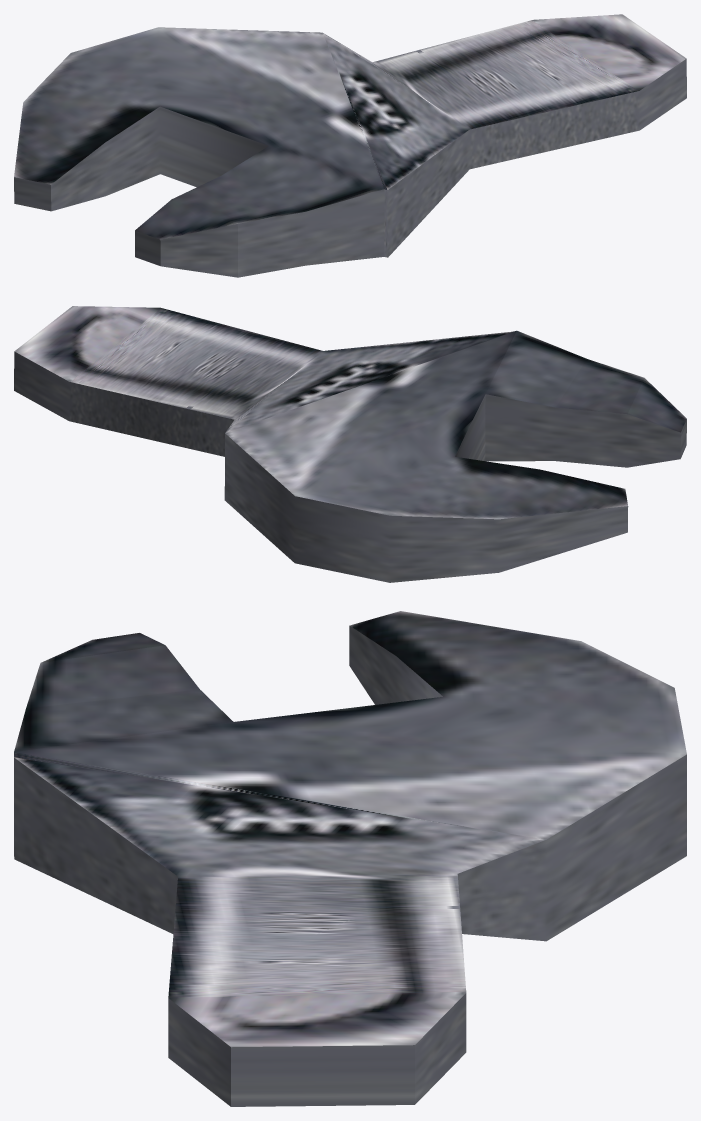
File: chave.FBX
The picture shows the model from 3 angles, top to bottom: view 1: azimuth 30°, elevation 25°; view 2: azimuth 150°, elevation 25°; view 3: azimuth 270°, elevation 25°; orthographic projection. The views are drawn at different scales.
Parts seen in each view (by area): view 1: chave; view 2: chave; view 3: chave.
Boxes of the visible parts, x1=… form: chave: x1=14, y1=14, x2=686, y2=277; chave: x1=14, y1=306, x2=686, y2=582; chave: x1=14, y1=611, x2=686, y2=1106.
Size of the model in its own units: 127 by 13.76 by 79.86.
